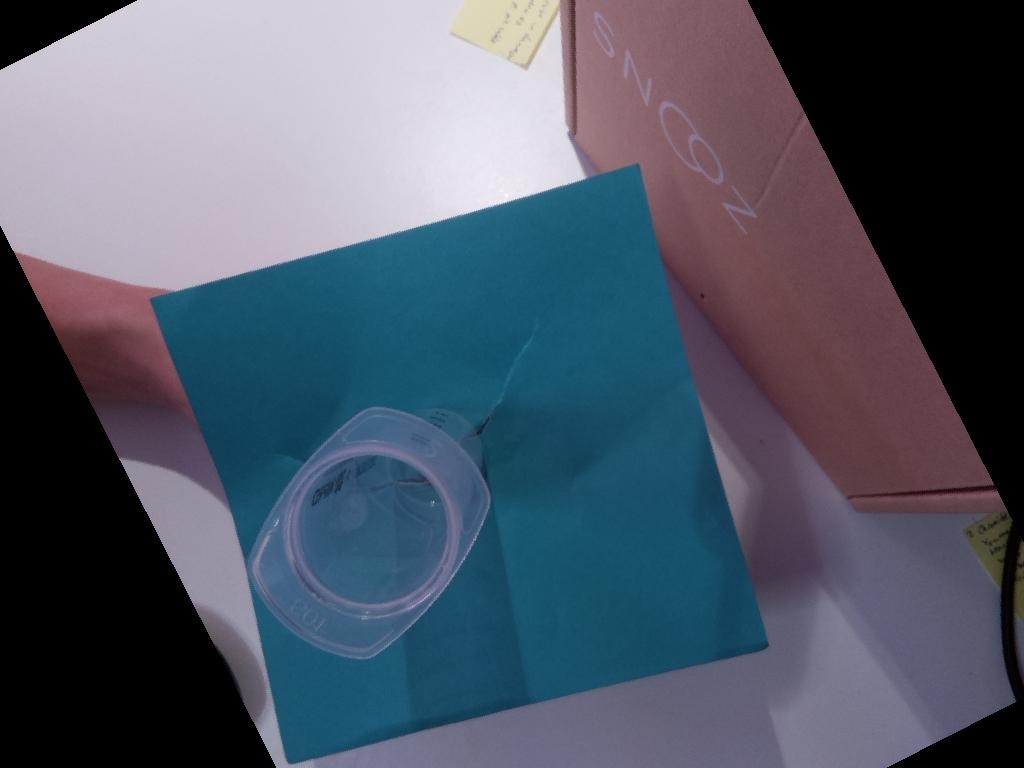clean: (246, 406, 491, 659)
